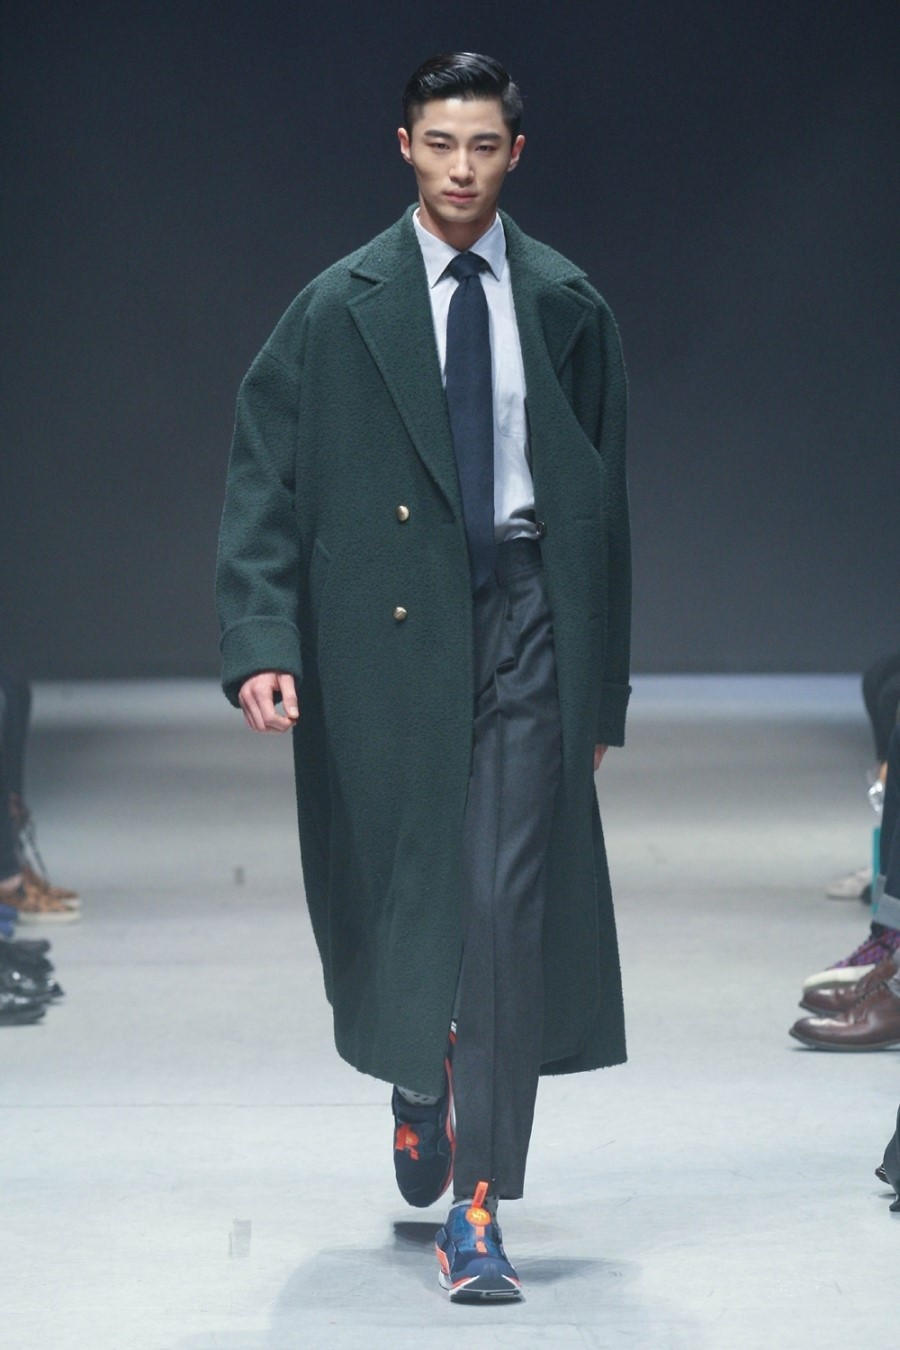face_no_mask: (394, 57, 524, 226)
